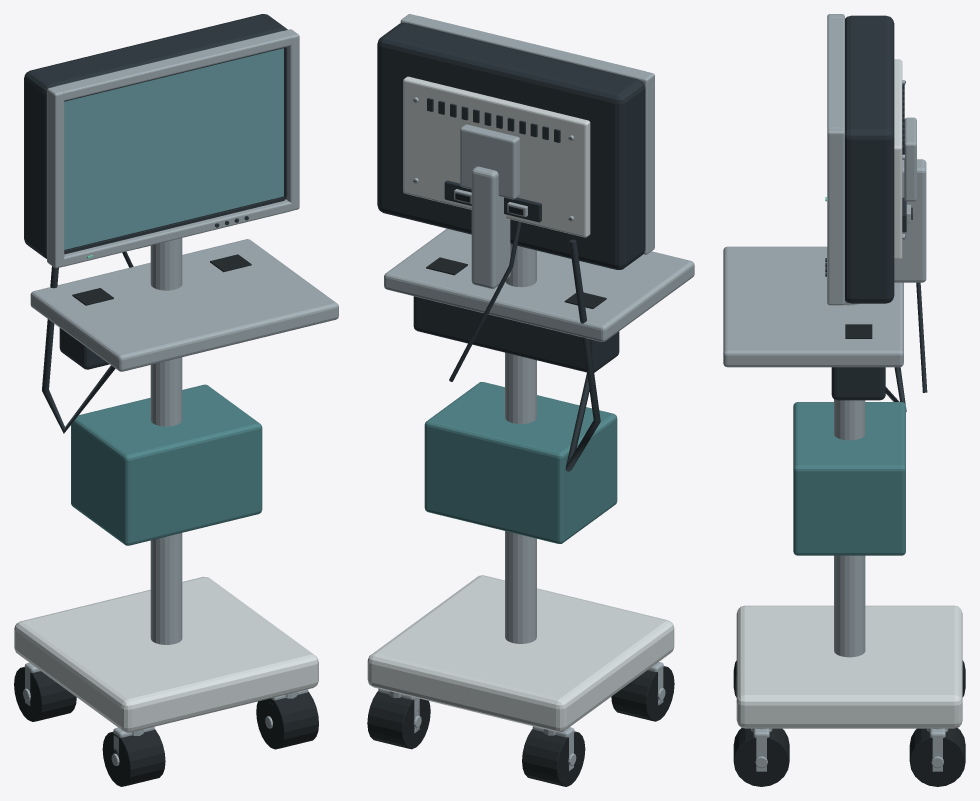
File: SF_VitalCart.fbx
3 renders of one model, left to right at view 1: azimuth 30°, elevation 25°; view 2: azimuth 150°, elevation 25°; view 3: azimuth 270°, elevation 25°, orthographic.
Visible parts, largest first — view 1: SF_VitalCart; view 2: SF_VitalCart; view 3: SF_VitalCart.
Boxes of the visible parts, x1,y1,x2,y2 form: SF_VitalCart: [14, 14, 338, 786]; SF_VitalCart: [367, 14, 694, 786]; SF_VitalCart: [723, 14, 965, 786].
Bounding box in the file's own units: 62.5 × 163 × 53.7.
